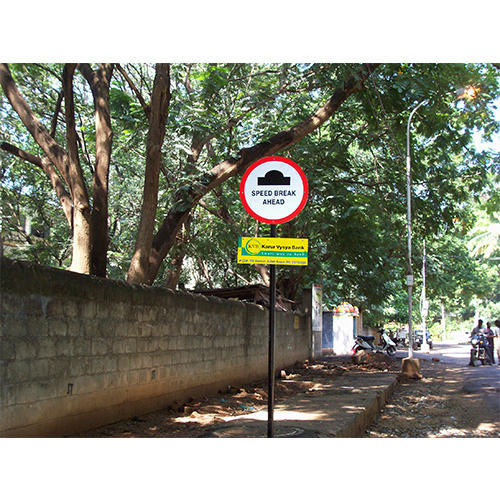speed-breaker: (238, 156, 309, 225)
